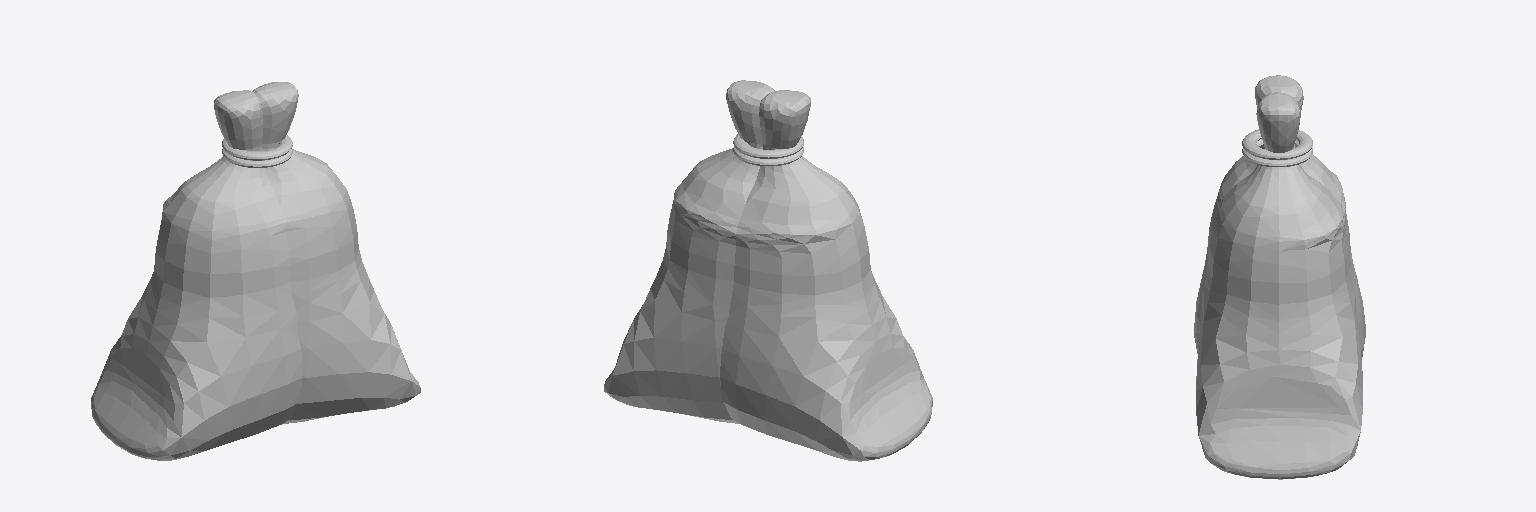
The model's file is sack.obj.
3 views of the same model, side by side, from view 1: azimuth 30°, elevation 25°; view 2: azimuth 150°, elevation 25°; view 3: azimuth 270°, elevation 25° (orthographic).
Parts seen in each view (by area): view 1: Cube_Cube.002; view 2: Cube_Cube.002; view 3: Cube_Cube.002.
Part boxes in pixels (x1,y1,x2,y2): Cube_Cube.002: (91,82,420,460); Cube_Cube.002: (604,80,932,461); Cube_Cube.002: (1194,75,1365,479).
Size of the model in its own units: 4.02 by 4.49 by 2.12.